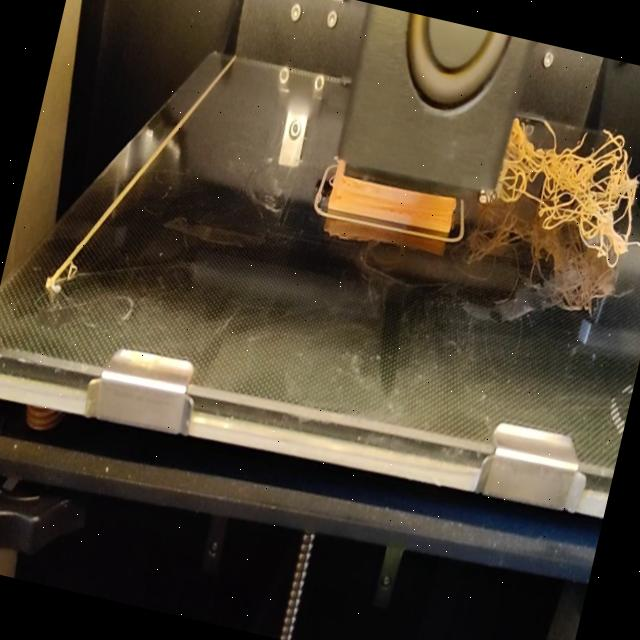spaghetti: (485, 103, 640, 269)
